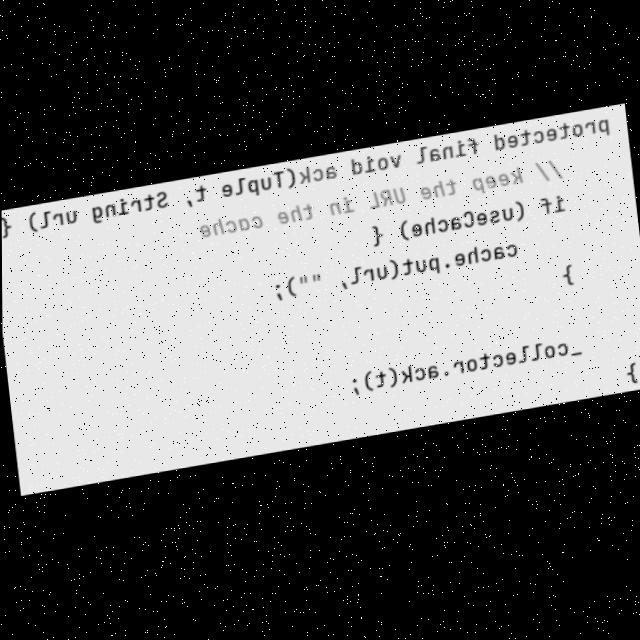code_screen: (2, 103, 640, 492)
